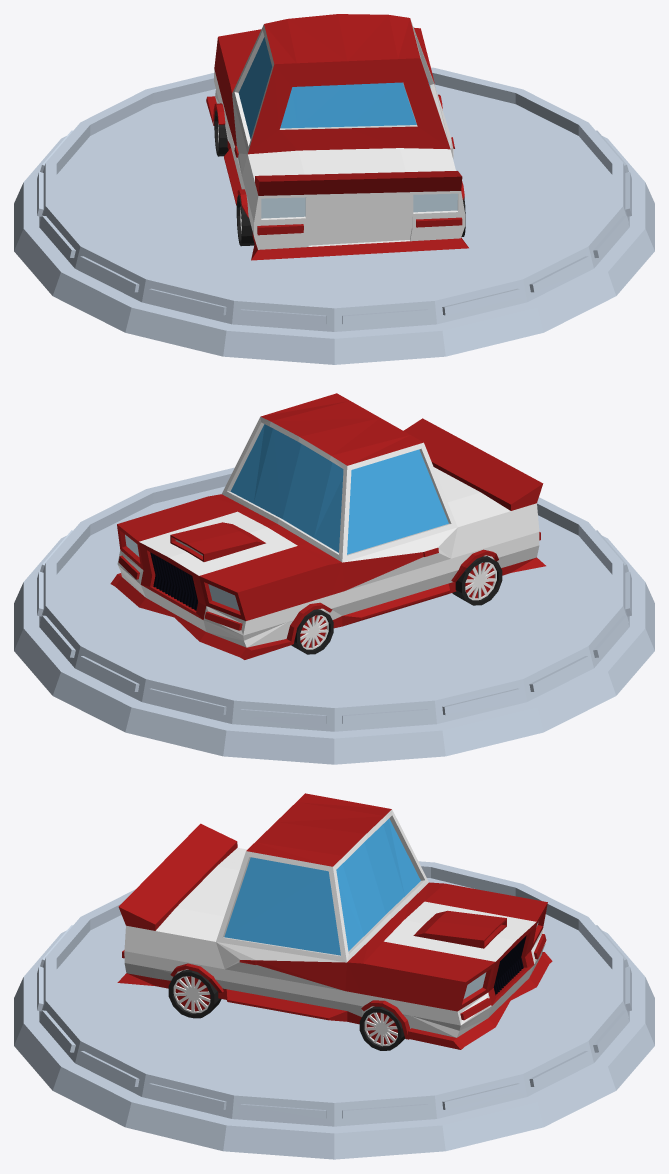
The model's file is MyCar.dae.
The picture shows the model from 3 angles, top to bottom: view 1: azimuth 30°, elevation 25°; view 2: azimuth 150°, elevation 25°; view 3: azimuth 270°, elevation 25°; orthographic projection.
Parts seen in each view (by area): view 1: platform, body, backlight, wheel_1; view 2: platform, body, wheel_1, lattice_1, wheel1_1, headlight; view 3: platform, body, wheel_1, wheel1_1, lattice_1.
Part boxes in pixels (x1=…): platform: x1=14, y1=67, x2=654, y2=364; body: x1=206, y1=14, x2=468, y2=260; backlight: x1=261, y1=193, x2=457, y2=218; wheel_1: x1=236, y1=195, x2=465, y2=246; platform: x1=14, y1=467, x2=654, y2=764; body: x1=110, y1=393, x2=545, y2=659; wheel_1: x1=452, y1=556, x2=502, y2=605; lattice_1: x1=150, y1=552, x2=197, y2=610; wheel1_1: x1=291, y1=609, x2=333, y2=654; headlight: x1=125, y1=534, x2=239, y2=610; platform: x1=14, y1=861, x2=654, y2=1159; body: x1=117, y1=793, x2=552, y2=1049; wheel_1: x1=168, y1=970, x2=221, y2=1018; wheel1_1: x1=359, y1=1006, x2=405, y2=1050; lattice_1: x1=493, y1=935, x2=526, y2=995.
Size of the model in its own units: 3.95 by 1.32 by 3.89.
